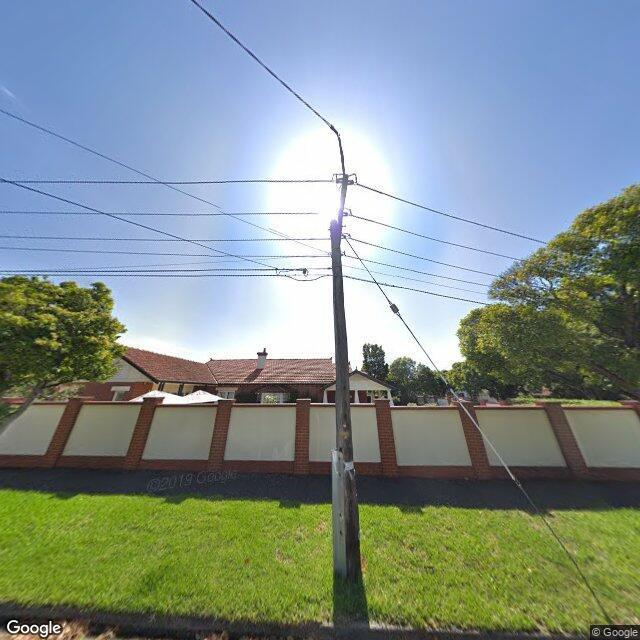crossarm: (338, 174, 348, 242)
streetlight: (190, 0, 346, 177)
timber-pole: (329, 222, 363, 584)
